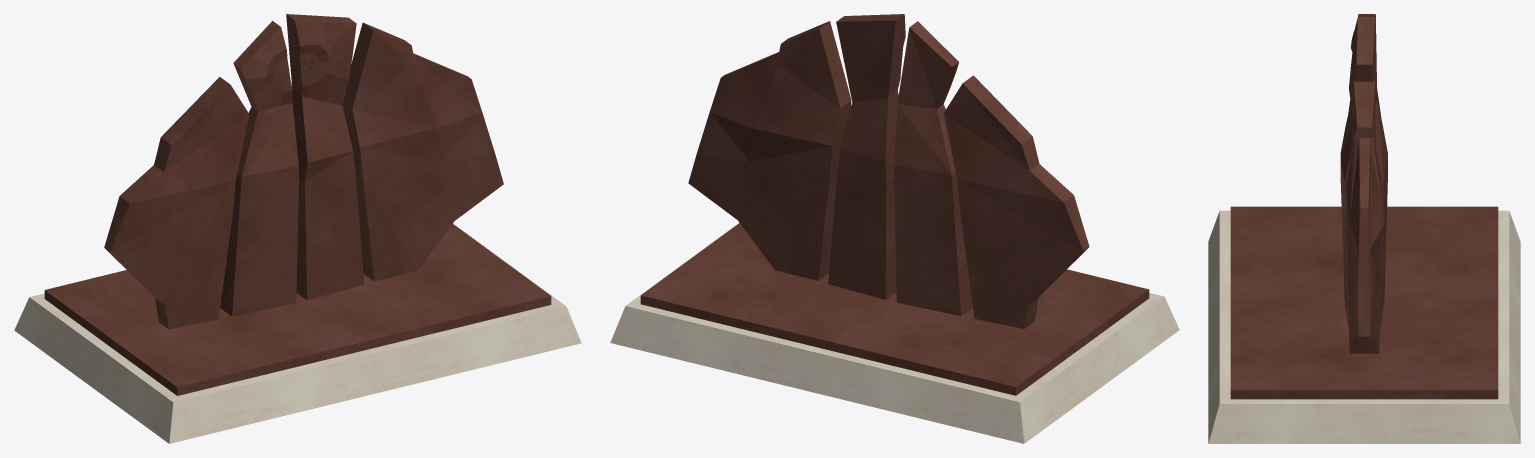
File: Praying Hands.fbx
3 renders of one model, left to right at view 1: azimuth 30°, elevation 25°; view 2: azimuth 150°, elevation 25°; view 3: azimuth 270°, elevation 25°, orthographic.
Parts seen in each view (by area): view 1: Cube.002; view 2: Cube.002; view 3: Cube.002.
Boxes of the visible parts, x1,y1,x2,y2 form: Cube.002: (14, 14, 581, 443); Cube.002: (610, 14, 1179, 443); Cube.002: (1208, 14, 1520, 443).
Bounding box in the file's own units: 4.37 × 3.24 × 2.84.
Materials: 2 (2 with a texture image).
